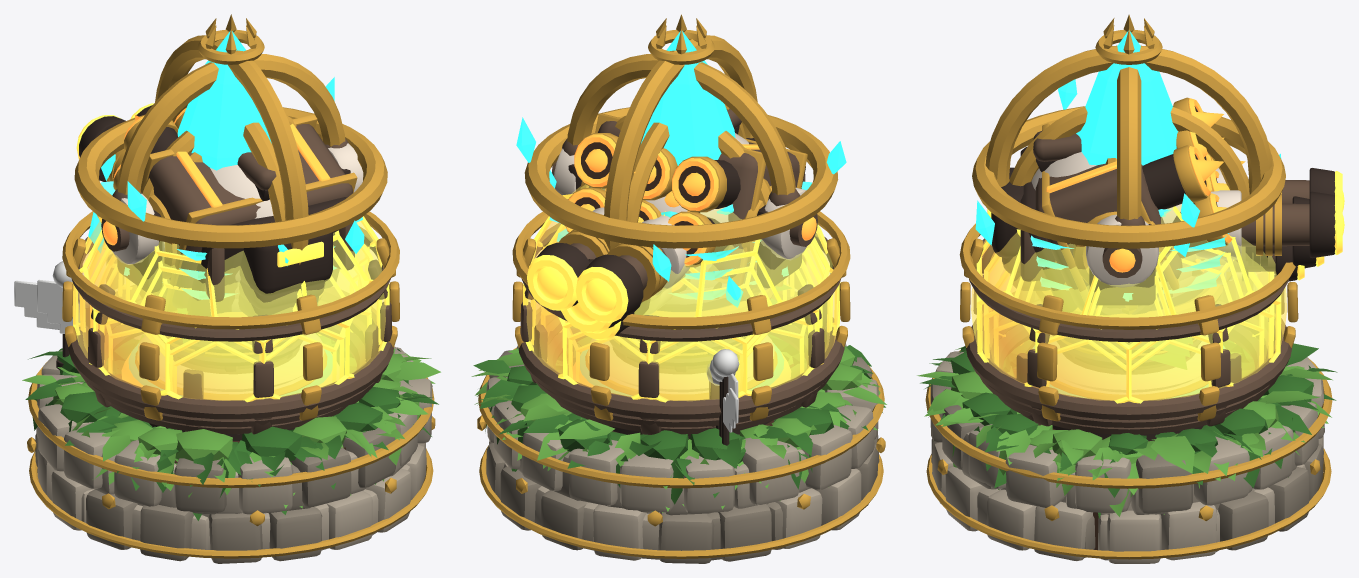
Rendered from towers.glb.
3 views of the same model, side by side, from view 1: azimuth 30°, elevation 25°; view 2: azimuth 150°, elevation 25°; view 3: azimuth 270°, elevation 25° (orthographic).
Parts seen in each view (by area): view 1: Tower_beacon_3_base, Tower_shield_3_body, Tower_beacon_3_body, Tower_shield_2_body, Tower_missile_3_turret, Tower_laser_3_turret, Tower_shield_1_body, Tower_beacon_2_base, Tower_beacon_2_body, Tower_laser_2_turret, Tower_laser_3_body, Tower_beacon_1_body (+1 smaller); view 2: Tower_beacon_3_base, Tower_shield_3_body, Tower_beacon_3_body, Tower_shield_2_body, Tower_missile_3_turret, Tower_laser_3_turret, Tower_beacon_2_base, Tower_shield_1_body, Tower_beacon_2_body, Tower_laser_1_turret, Tower_laser_2_turret, Tower_laser_3_body (+2 smaller); view 3: Tower_beacon_3_base, Tower_shield_3_body, Tower_beacon_3_body, Tower_shield_2_body, Tower_missile_3_turret, Tower_laser_3_turret, Tower_shield_1_body, Tower_beacon_2_base, Tower_beacon_2_body, Tower_laser_1_turret, Tower_laser_2_turret, Tower_laser_3_body (+4 smaller).
Boxes of the visible parts, x1=… form: Tower_beacon_3_base: x1=22, y1=333, x2=440, y2=563; Tower_shield_3_body: x1=62, y1=211, x2=399, y2=420; Tower_beacon_3_body: x1=14, y1=14, x2=387, y2=440; Tower_shield_2_body: x1=71, y1=226, x2=392, y2=434; Tower_missile_3_turret: x1=101, y1=108, x2=363, y2=315; Tower_laser_3_turret: x1=76, y1=103, x2=354, y2=301; Tower_shield_1_body: x1=85, y1=254, x2=378, y2=433; Tower_beacon_2_base: x1=57, y1=335, x2=438, y2=550; Tower_beacon_2_body: x1=24, y1=104, x2=305, y2=365; Tower_laser_2_turret: x1=158, y1=200, x2=324, y2=309; Tower_laser_3_body: x1=135, y1=339, x2=326, y2=399; Tower_beacon_1_body: x1=36, y1=284, x2=299, y2=373; Tower_beacon_3_base: x1=473, y1=334, x2=886, y2=563; Tower_shield_3_body: x1=512, y1=185, x2=850, y2=420; Tower_beacon_3_body: x1=516, y1=14, x2=846, y2=445; Tower_shield_2_body: x1=520, y1=223, x2=841, y2=434; Tower_missile_3_turret: x1=552, y1=113, x2=817, y2=311; Tower_laser_3_turret: x1=527, y1=108, x2=805, y2=322; Tower_beacon_2_base: x1=471, y1=344, x2=885, y2=560; Tower_shield_1_body: x1=534, y1=259, x2=826, y2=434; Tower_beacon_2_body: x1=549, y1=104, x2=771, y2=437; Tower_laser_1_turret: x1=580, y1=284, x2=766, y2=339; Tower_laser_2_turret: x1=561, y1=259, x2=756, y2=332; Tower_laser_3_body: x1=585, y1=339, x2=776, y2=399; Tower_beacon_3_base: x1=920, y1=340, x2=1337, y2=563; Tower_shield_3_body: x1=959, y1=205, x2=1298, y2=421; Tower_beacon_3_body: x1=972, y1=14, x2=1285, y2=440; Tower_shield_2_body: x1=969, y1=238, x2=1288, y2=427; Tower_missile_3_turret: x1=1020, y1=97, x2=1245, y2=315; Tower_laser_3_turret: x1=987, y1=130, x2=1344, y2=283; Tower_shield_1_body: x1=990, y1=258, x2=1267, y2=434; Tower_beacon_2_base: x1=917, y1=343, x2=1336, y2=560; Tower_beacon_2_body: x1=1009, y1=107, x2=1274, y2=365; Tower_laser_1_turret: x1=1013, y1=246, x2=1304, y2=314; Tower_laser_2_turret: x1=1002, y1=196, x2=1324, y2=307; Tower_laser_3_body: x1=1050, y1=339, x2=1207, y2=399.
Size of the model in its own units: 1.61 by 2.01 by 1.68.
